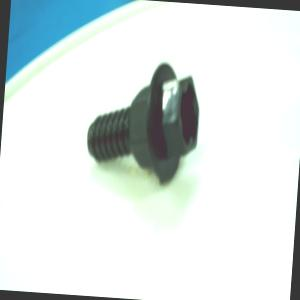parafuso: (82, 53, 204, 188), (81, 56, 204, 189)
